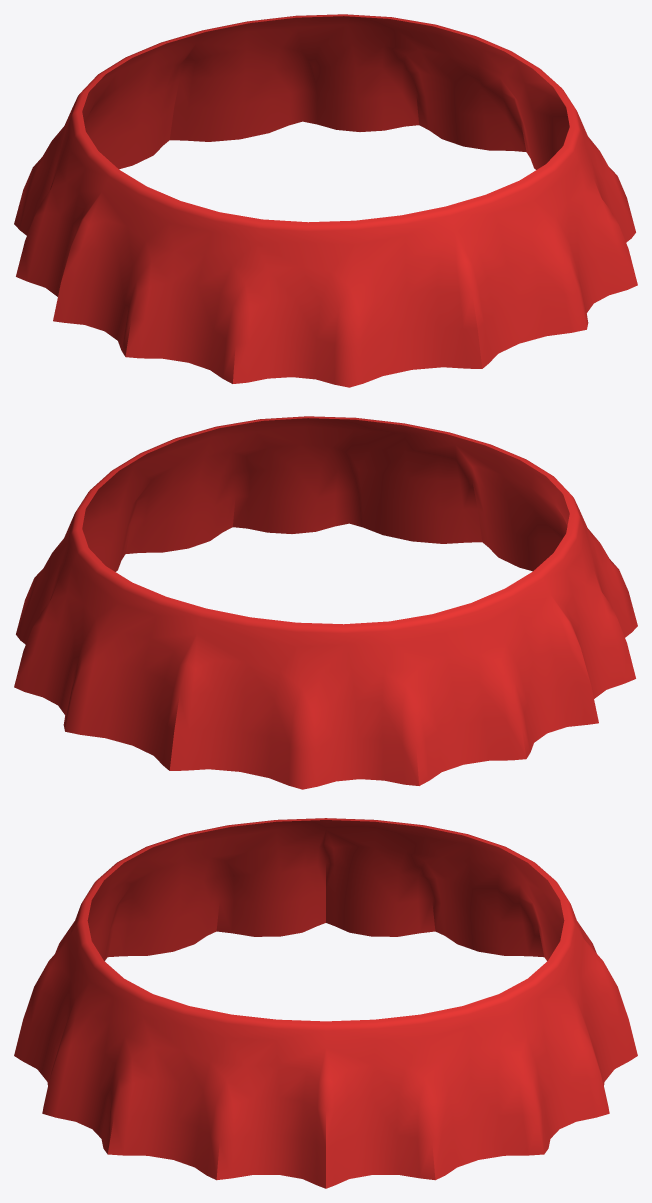
3 renders of one model, top to bottom at view 1: azimuth 30°, elevation 25°; view 2: azimuth 150°, elevation 25°; view 3: azimuth 270°, elevation 25°, orthographic.
Visible parts, largest first — view 1: skirt; view 2: skirt; view 3: skirt.
Part boxes in pixels (box(x1,y1,x2,y2)): skirt: box(14, 14, 637, 387); skirt: box(14, 416, 637, 789); skirt: box(14, 818, 637, 1188).
Bounding box in the file's own units: 1.71 × 0.4042 × 1.69.
